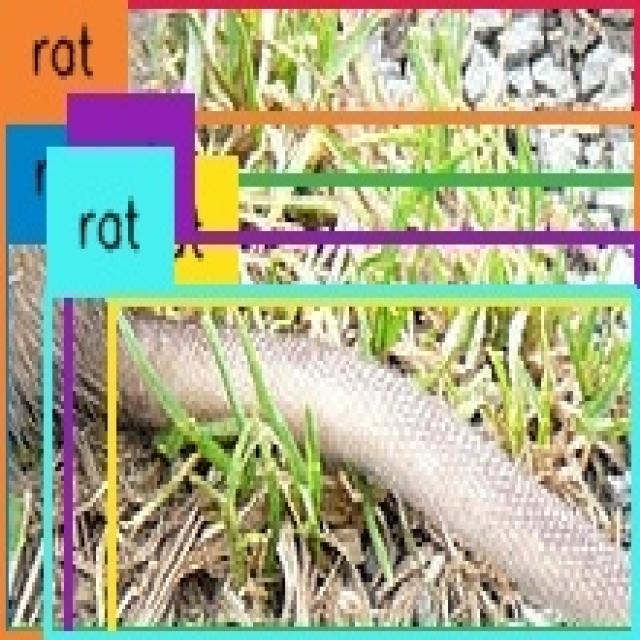rat: (1, 2, 638, 638), (1, 120, 638, 636), (1, 178, 638, 636), (4, 235, 638, 636), (67, 240, 637, 636), (47, 291, 637, 638), (112, 300, 639, 638)
